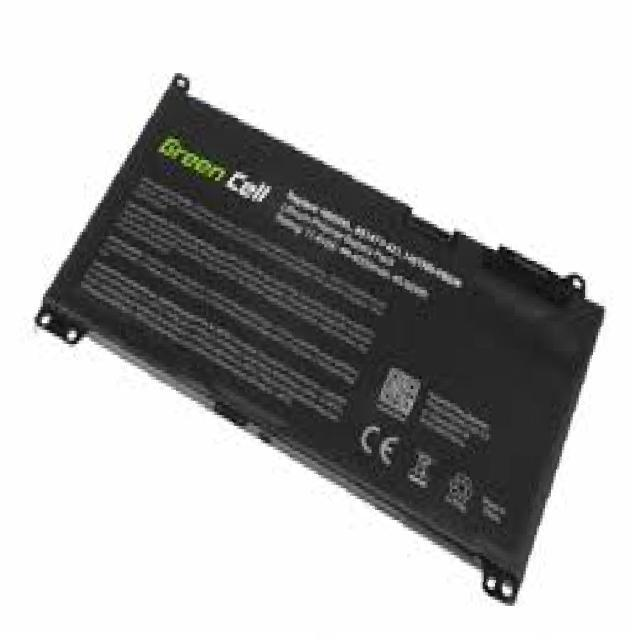Battery: (0, 48, 618, 624)
